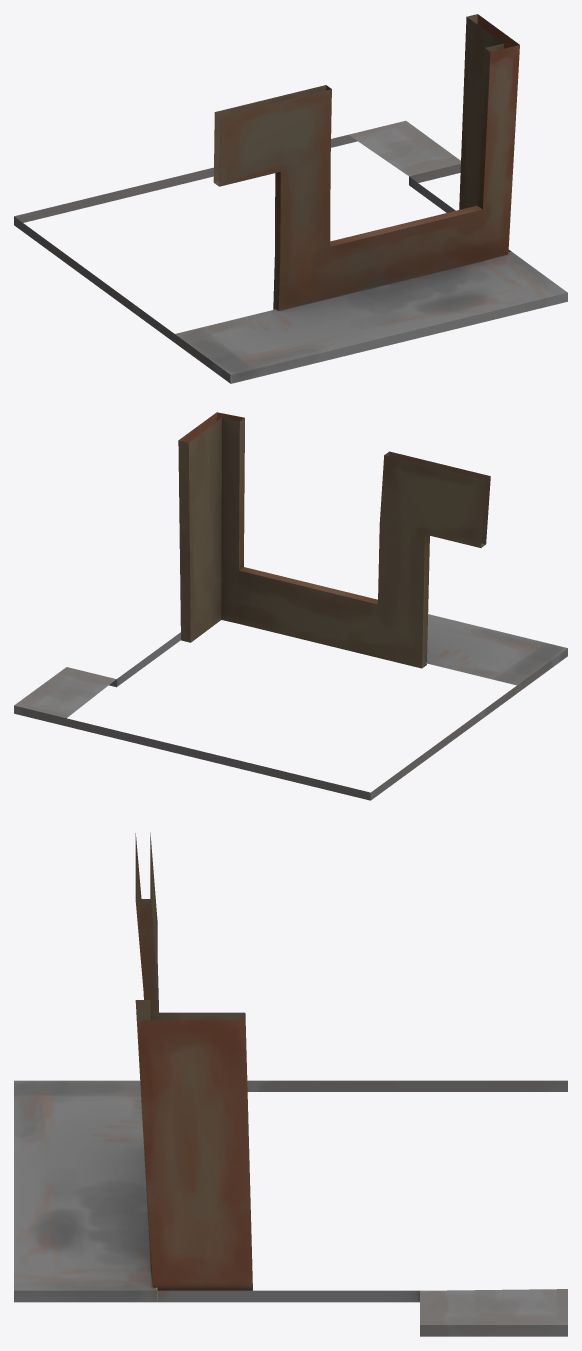
File: kitchen frame.obj
3 renders of one model, top to bottom at view 1: azimuth 30°, elevation 25°; view 2: azimuth 150°, elevation 25°; view 3: azimuth 270°, elevation 25°, orthographic. The views are drawn at different scales.
Visible parts, largest first — view 1: polySurface1402; view 2: polySurface1402; view 3: polySurface1402.
Boxes of the visible parts, x1,y1,x2,y2 form: polySurface1402: [14, 14, 567, 383]; polySurface1402: [14, 412, 567, 800]; polySurface1402: [14, 832, 567, 1336].
Bounding box in the file's own units: 10.37 × 5.65 × 9.93.
1 material, 1 textured.
